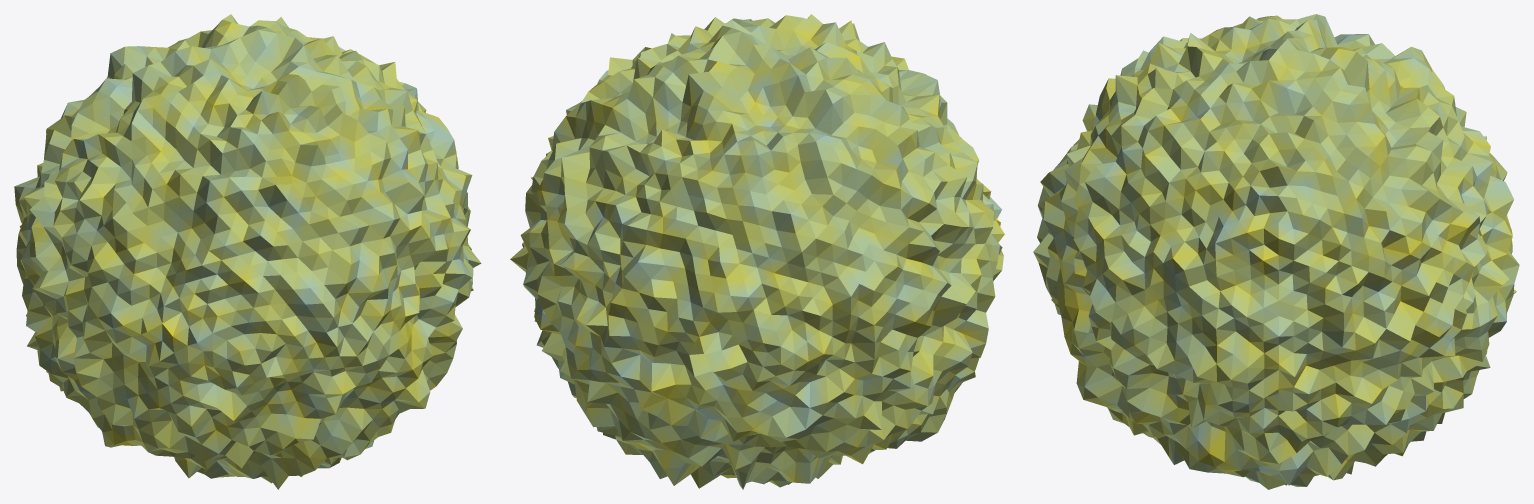
The model's file is spiky.dae.
3 views of the same model, side by side, from view 1: azimuth 30°, elevation 25°; view 2: azimuth 150°, elevation 25°; view 3: azimuth 270°, elevation 25° (orthographic). The views are drawn at different scales.
Parts seen in each view (by area): view 1: node; view 2: node; view 3: node.
Boxes of the visible parts, box(x1,y1,x2,y2) form: node: box(14, 14, 481, 489); node: box(510, 14, 1004, 489); node: box(1033, 14, 1519, 489).
Bounding box in the file's own units: 4.99 × 5 × 5.03.
